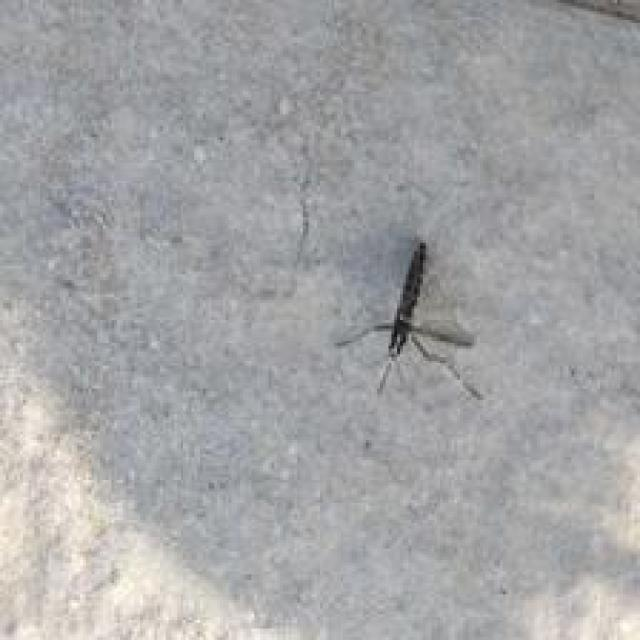Aedes albopictus: (333, 238, 484, 402)
